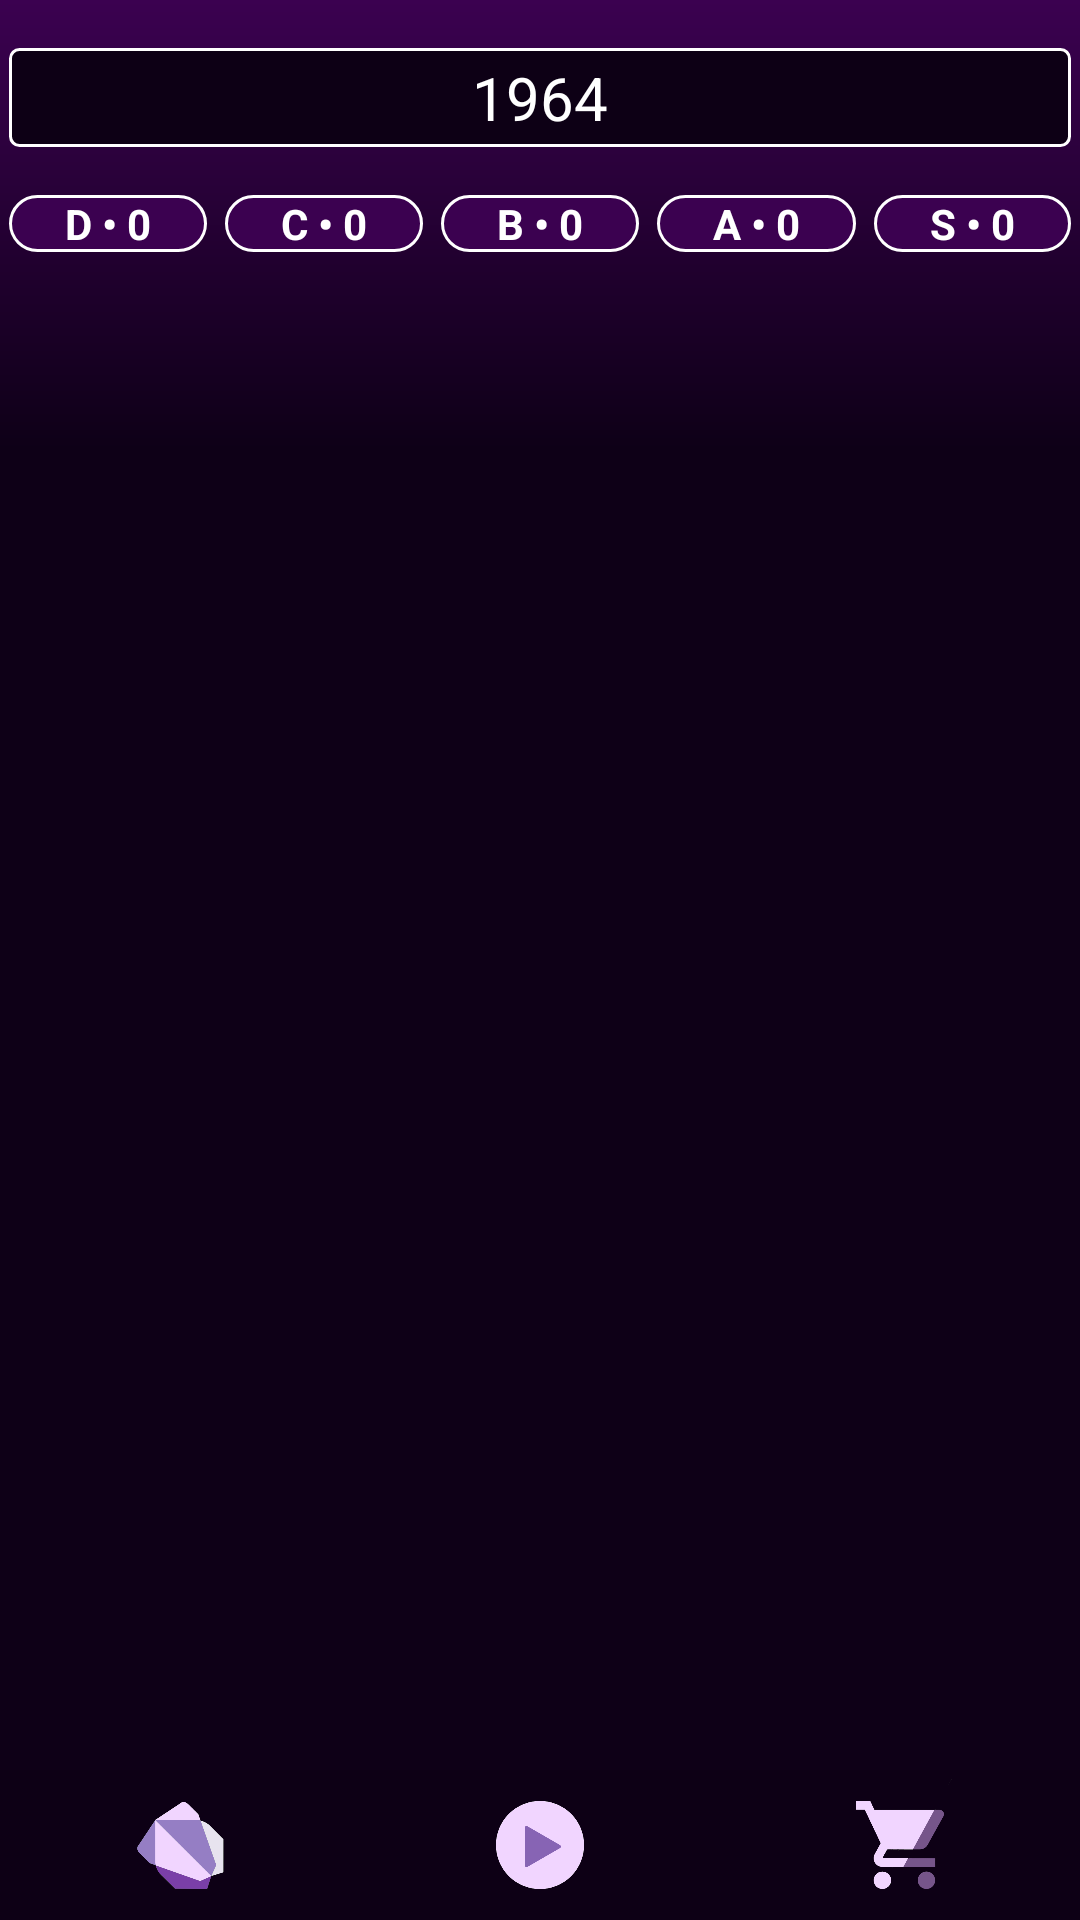

Screen size 1080w x 1920h. Icon name, then its center in pixels as point (x, y):
shop: point (900, 1845)
